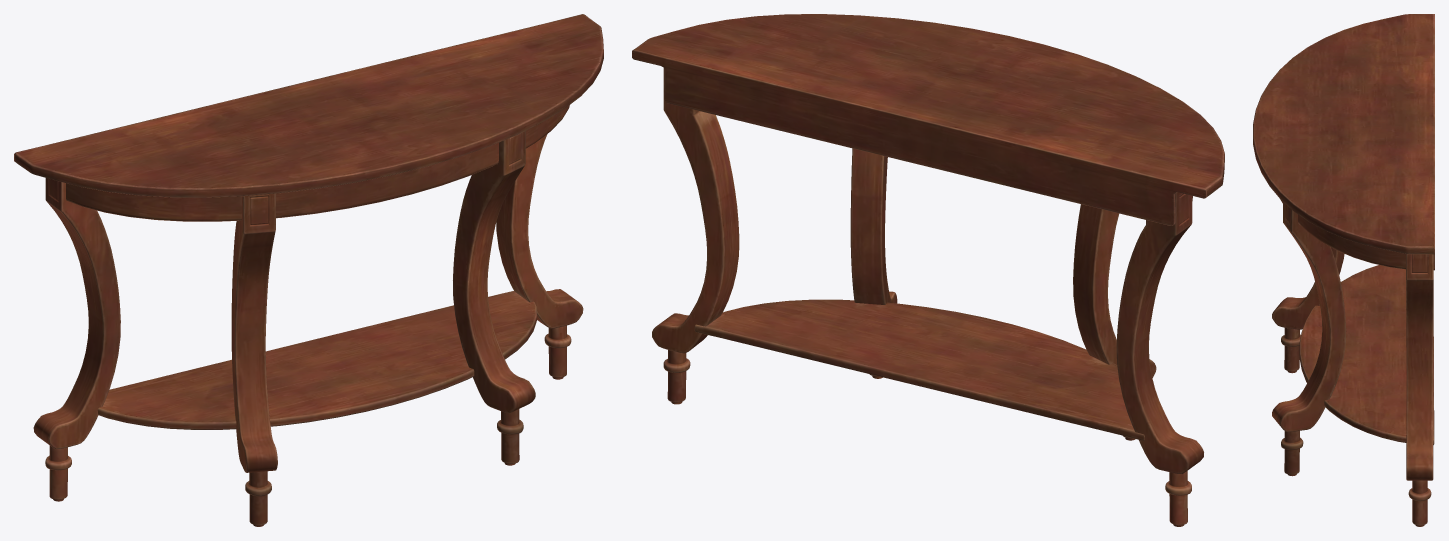
File: abo-B07M6PK8SV.glb
3 renders of one model, left to right at view 1: azimuth 30°, elevation 25°; view 2: azimuth 150°, elevation 25°; view 3: azimuth 270°, elevation 25°, orthographic. The views are drawn at different scales.
Size of the model in its own units: 1.2 by 0.699 by 0.394.
Materials: 1 (1 with a texture image).
